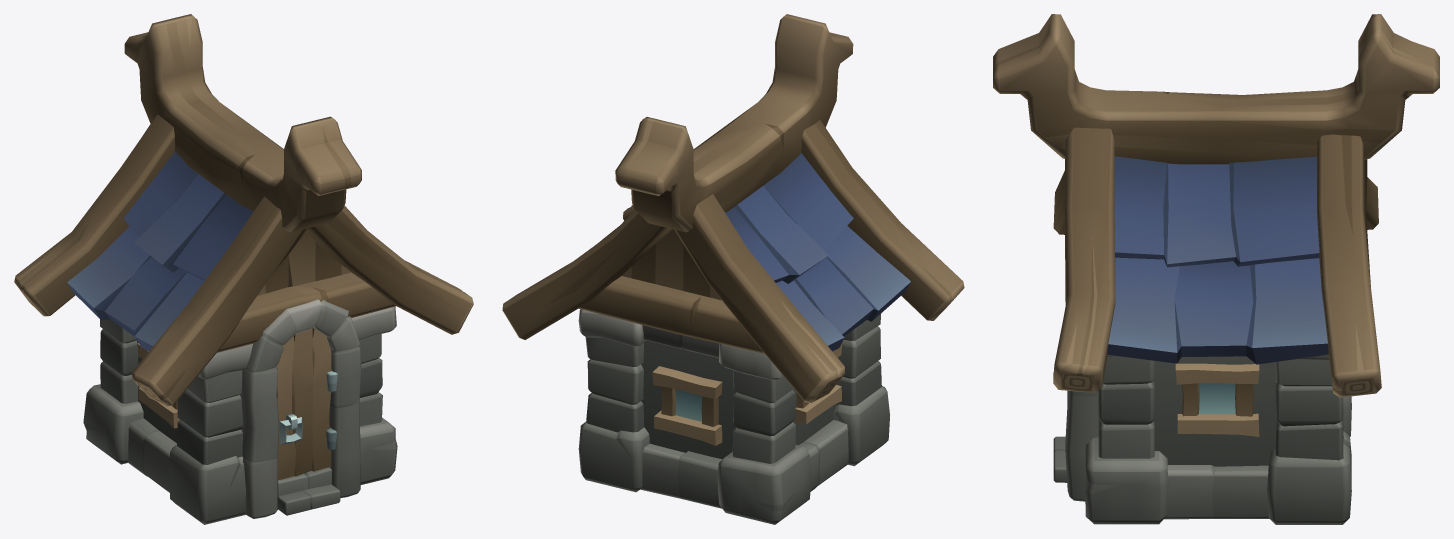
File: human_house_small.fbx
3 views of the same model, side by side, from view 1: azimuth 30°, elevation 25°; view 2: azimuth 150°, elevation 25°; view 3: azimuth 270°, elevation 25° (orthographic). The views are drawn at different scales.
Visible parts, largest first — view 1: human_house_small; view 2: human_house_small; view 3: human_house_small.
Part boxes in pixels (box(x1,y1,x2,y2)): human_house_small: box(14, 14, 473, 524); human_house_small: box(502, 14, 964, 524); human_house_small: box(993, 14, 1439, 524).
Size of the model in its own units: 592 by 674 by 609.
